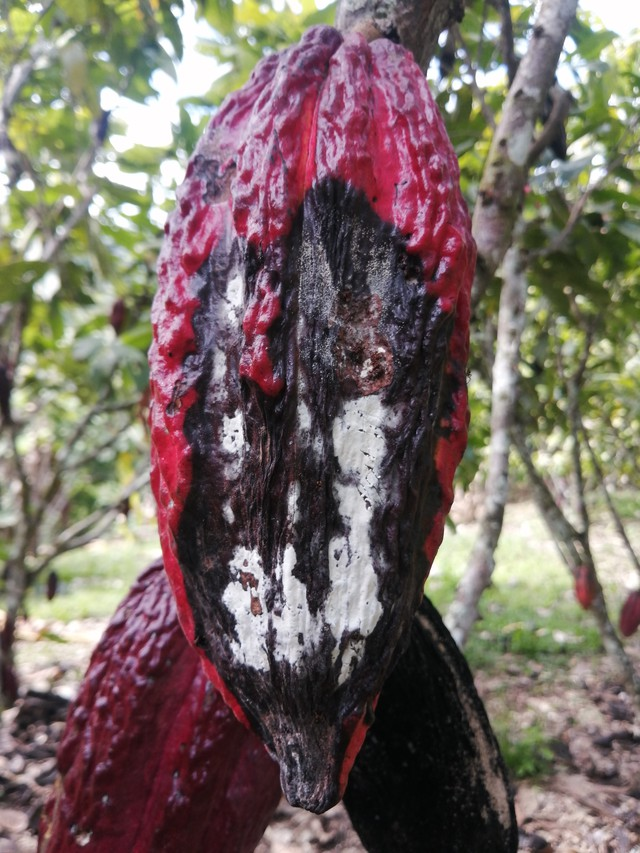moniliophthora roreri: (98, 10, 539, 823)
